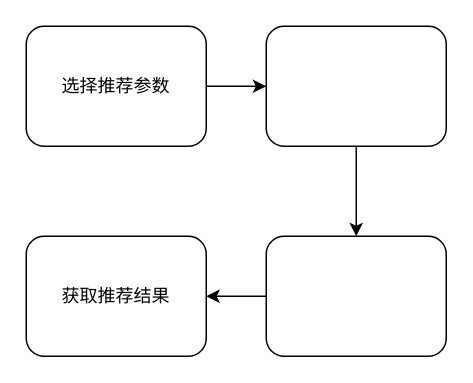
Some shapes in this 473 by 383 pixel diagram are drawn without their labels. The centre of each missing label's shape, as x and y in pixels:
"点击获取推荐" belongs at pixel 355 85.
"等待AI推理完成" belongs at pixel 355 295.
